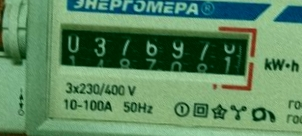0: (64, 30, 79, 53)
1: (220, 54, 232, 74)
3: (92, 35, 106, 57)
6: (143, 33, 159, 57)
7: (117, 33, 133, 58), (195, 38, 210, 61)
9: (169, 36, 183, 59)
screen: (49, 10, 260, 93)
